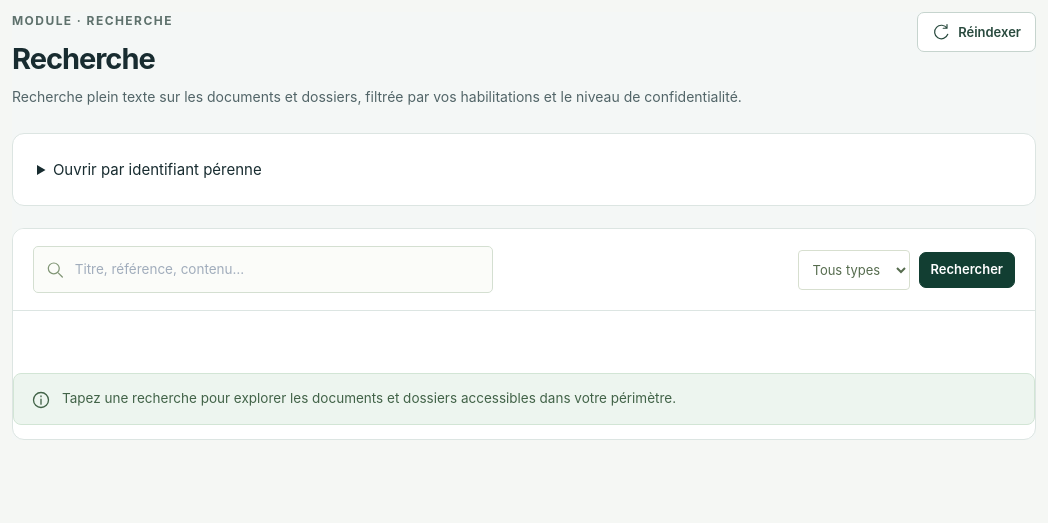
Test: la réindexation tourne en arrière-plan : l’avancement se lit, puis le bilan final apparaît
The width and height of the screenshot is (1048, 523).
Click the button "Réindexer" at (977, 32), box [917,12,1036,52]
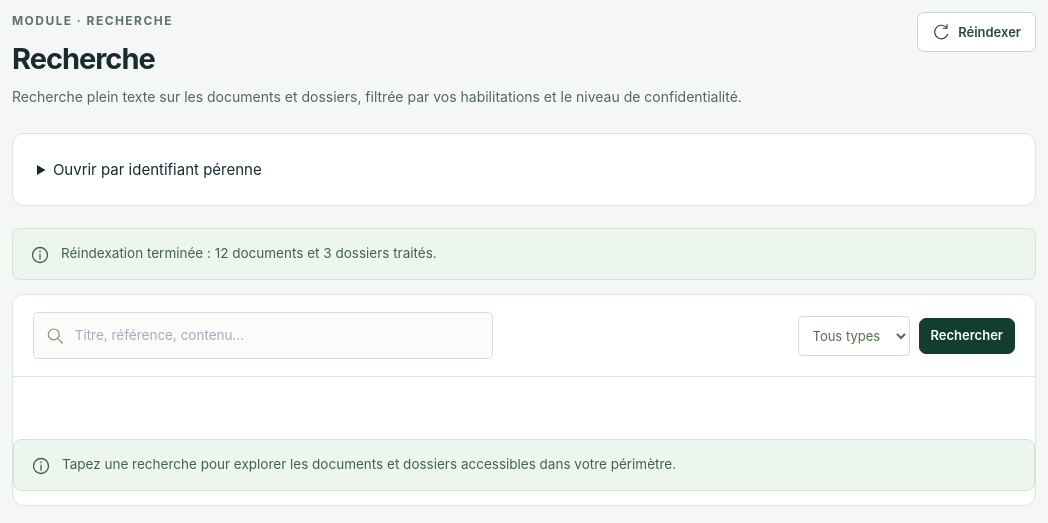
Expected: the text "Réindexation terminée : 12 documents et 3 dossiers traités." is shown, [61,244,437,265]
